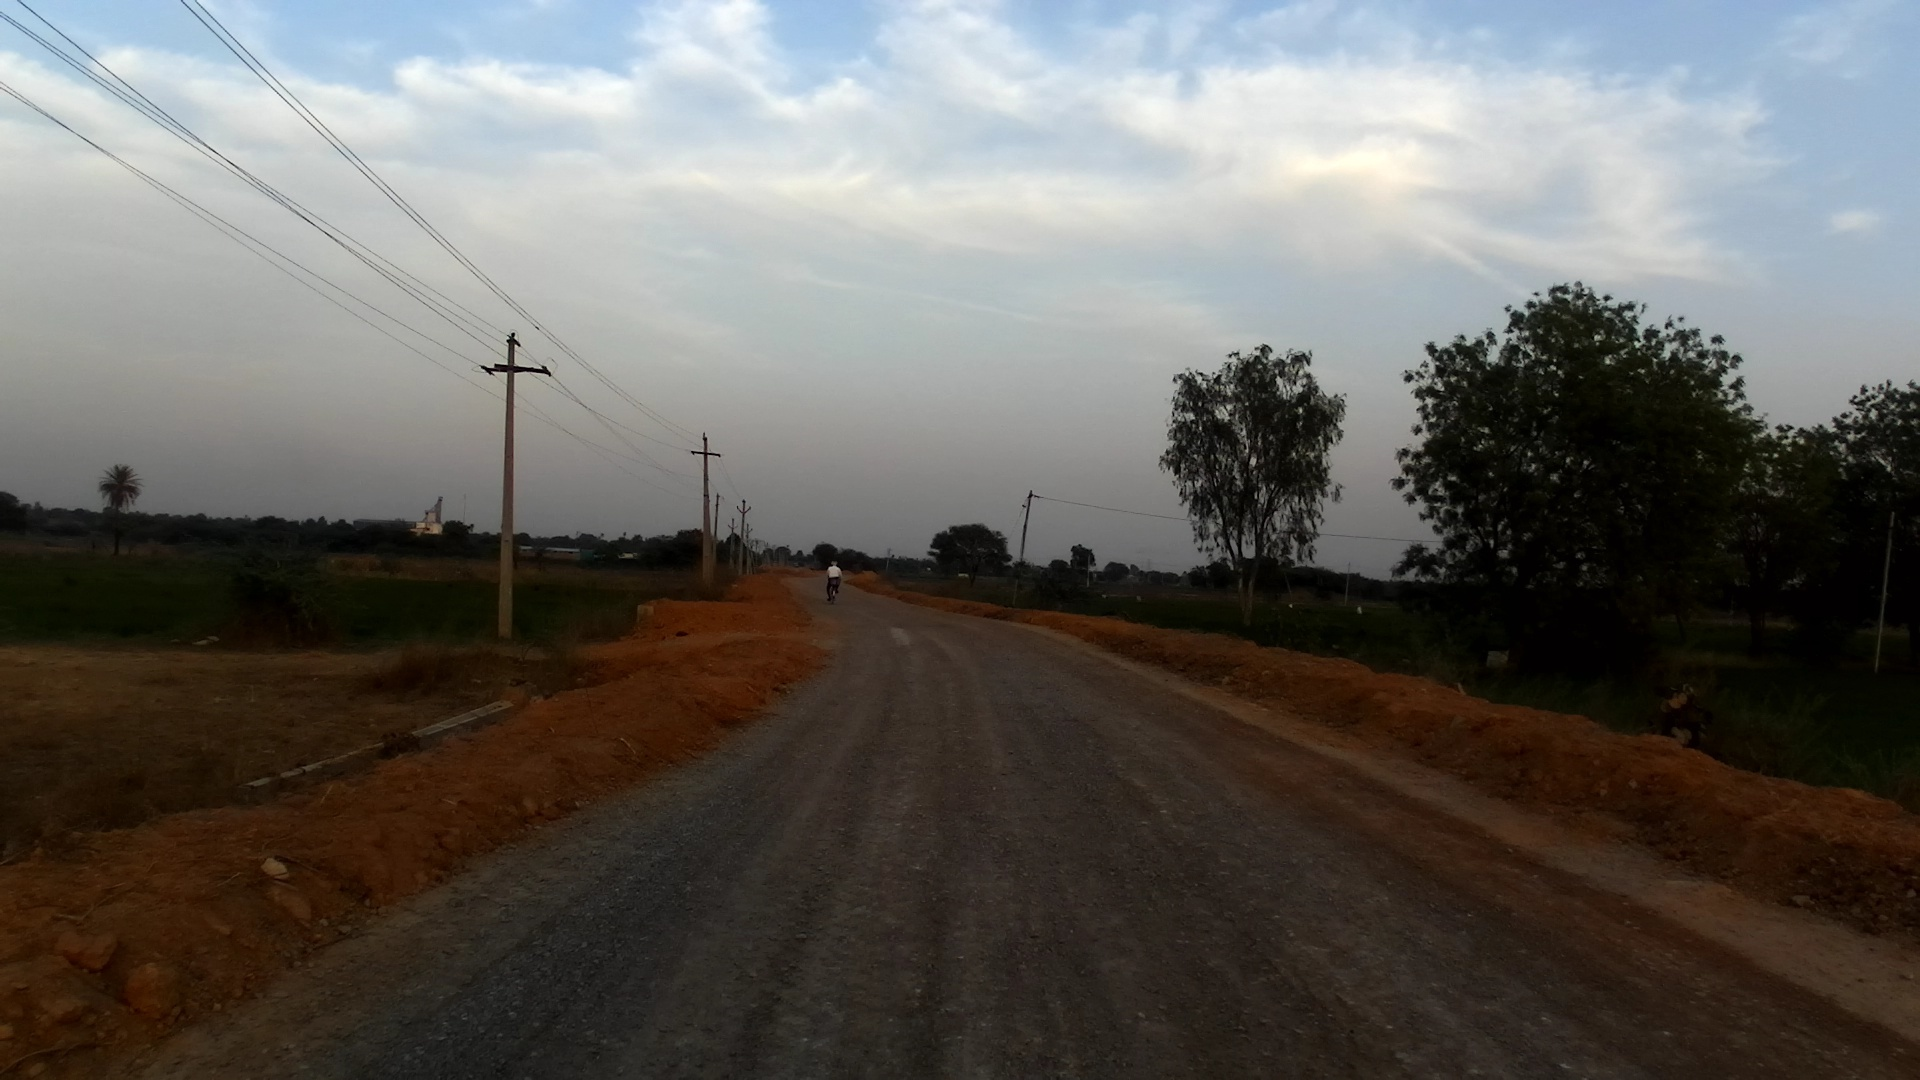bicycle: (827, 582, 842, 607)
rider: (826, 557, 845, 592)
